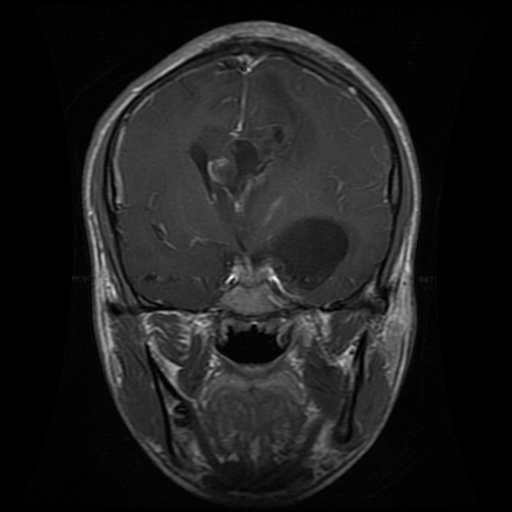glioma: (188, 115, 290, 220)
